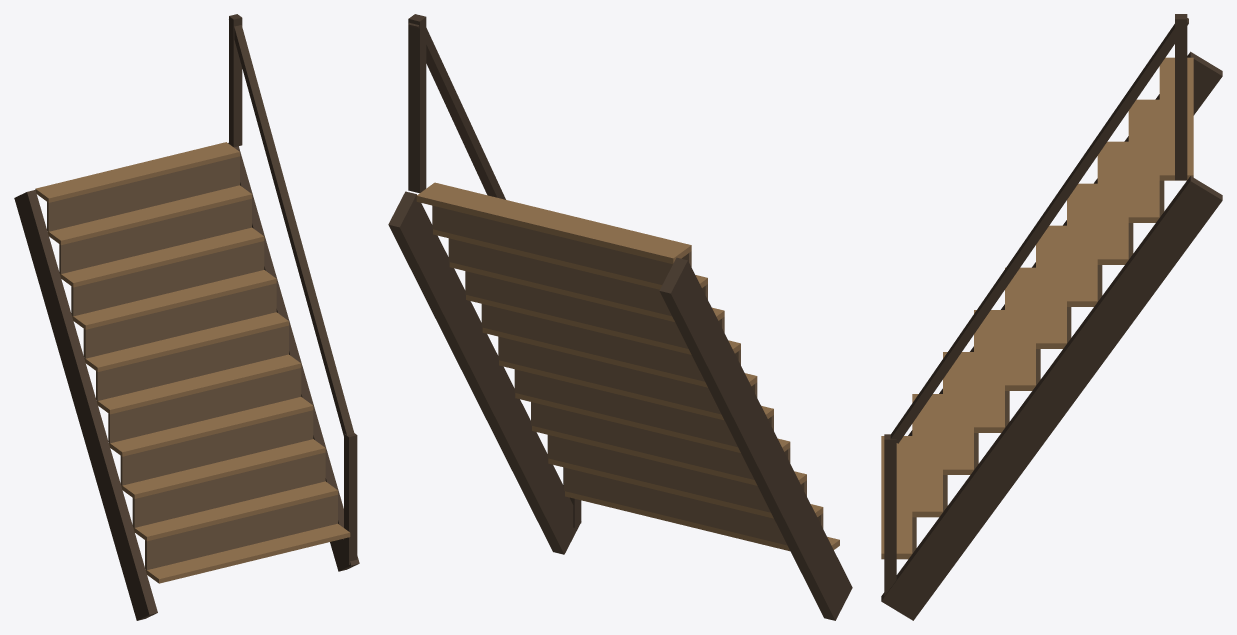
File: base_stairs.glb
3 renders of one model, left to right at view 1: azimuth 30°, elevation 25°; view 2: azimuth 150°, elevation 25°; view 3: azimuth 270°, elevation 25°, orthographic. The views are drawn at different scales.
Parts seen in each view (by area): view 1: base_stairs; view 2: base_stairs; view 3: base_stairs.
Part boxes in pixels (bbox=[...]): base_stairs: bbox=[14, 14, 359, 620]; base_stairs: bbox=[388, 14, 852, 620]; base_stairs: bbox=[881, 14, 1222, 620].
Size of what is drawn, in the model's own units: 1.98 by 4.29 by 2.21.
1 material, 1 textured.
